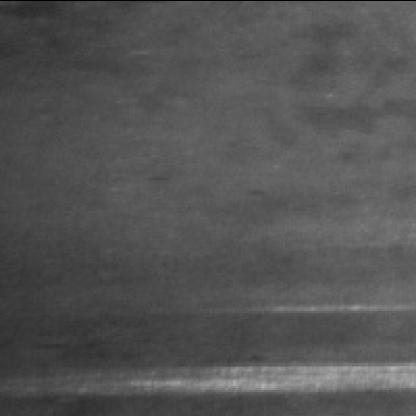scratches: (106, 352, 412, 396), (233, 294, 410, 318)
